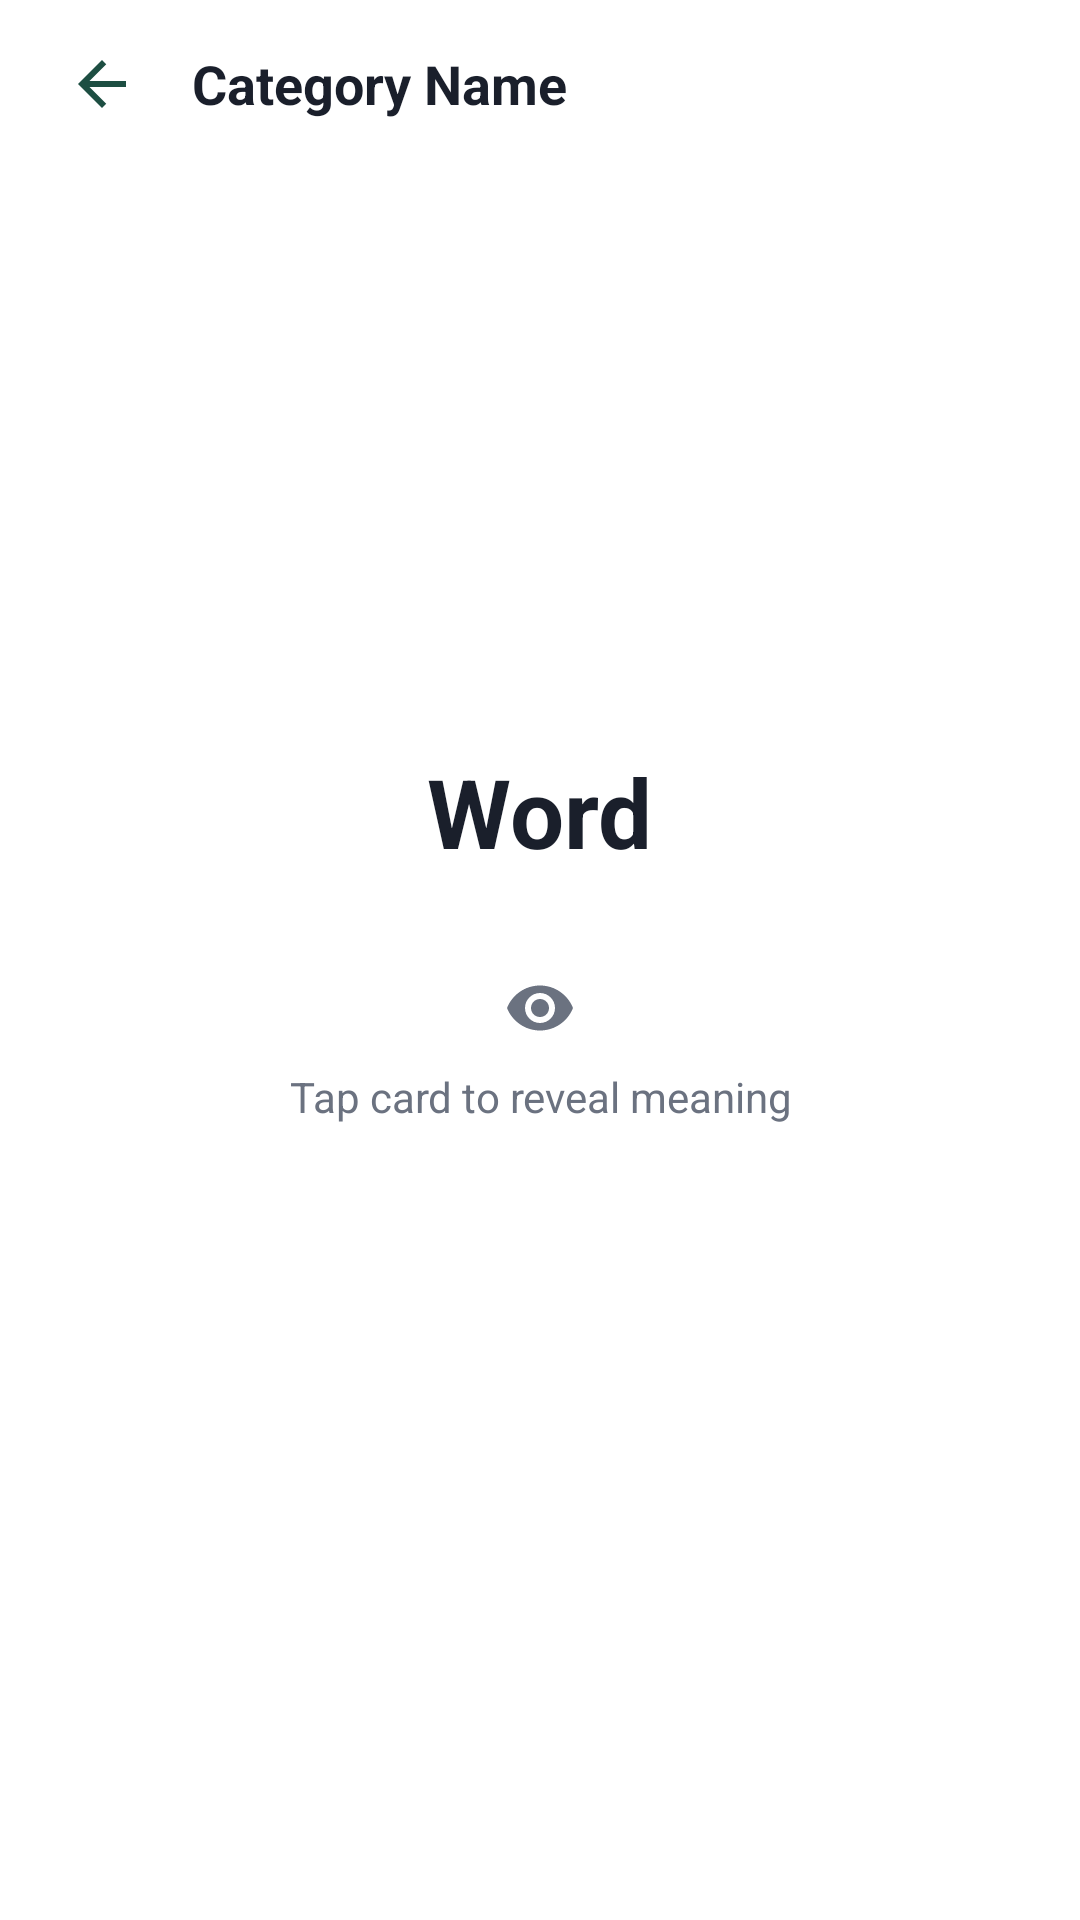

Icons on this 1080 x 1920 Android screen, each with its box as (x1, y1, x2, y2):
Back: (78, 60, 126, 108)
